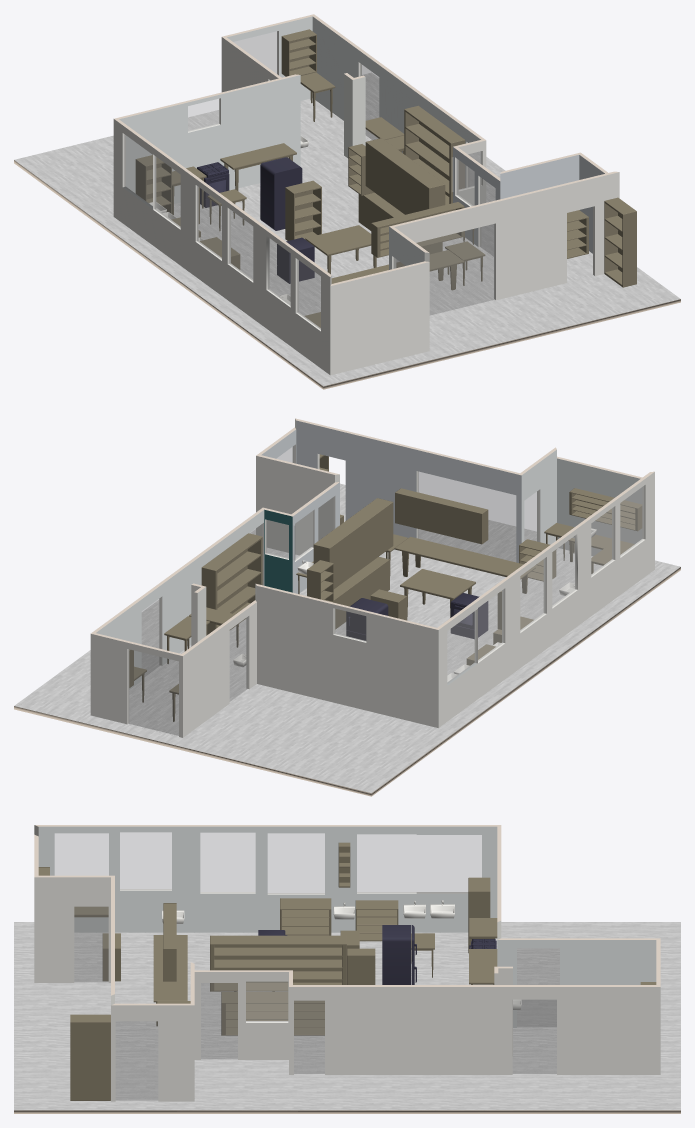
File: Nov17at8-38AM-poly.fbx
3 renders of one model, top to bottom at view 1: azimuth 30°, elevation 25°; view 2: azimuth 150°, elevation 25°; view 3: azimuth 270°, elevation 25°, orthographic. The views are drawn at different scales.
Parts seen in each view (by area): view 1: wall_13-1.wall_12-3.wall_6-3.wall_12-1.wall_6-1.wall_11-3.wa, floor_0-0, object_1.object_2.object_3.object_4.object_5.object_6.object, wall_6-0.wall_5-0.wall_11-0.wall_8-0.wall_4-0.wall_0-0.wall_, window_4.window_8.window_5.window_2.window_0.window_3.window, door_1.door_3.door_7.door_6.door_0.door_4.door_5.door_2, object_18.object_14.object_19.object_23, wall_6-2.wall_12-2.wall_5-2.wall_11-2.wall_4-2.wall_10-2.wal, wall_12-0.wall_1-0.wall_10-0.wall_9-0, floor_0-1, wall_3-0.wall_2-0; view 2: wall_13-1.wall_12-3.wall_6-3.wall_12-1.wall_6-1.wall_11-3.wa, floor_0-0, object_1.object_2.object_3.object_4.object_5.object_6.object, door_1.door_3.door_7.door_6.door_0.door_4.door_5.door_2, wall_12-0.wall_1-0.wall_10-0.wall_9-0, window_4.window_8.window_5.window_2.window_0.window_3.window, wall_6-0.wall_5-0.wall_11-0.wall_8-0.wall_4-0.wall_0-0.wall_, wall_6-2.wall_12-2.wall_5-2.wall_11-2.wall_4-2.wall_10-2.wal, floor_0-1, object_18.object_14.object_19.object_23, wall_7-0; view 3: floor_0-0, wall_13-1.wall_12-3.wall_6-3.wall_12-1.wall_6-1.wall_11-3.wa, object_1.object_2.object_3.object_4.object_5.object_6.object, wall_6-0.wall_5-0.wall_11-0.wall_8-0.wall_4-0.wall_0-0.wall_, window_4.window_8.window_5.window_2.window_0.window_3.window, door_1.door_3.door_7.door_6.door_0.door_4.door_5.door_2, wall_6-2.wall_12-2.wall_5-2.wall_11-2.wall_4-2.wall_10-2.wal, floor_0-1, object_18.object_14.object_19.object_23.
Part boxes in pixels (x1,y1,x2,y2): wall_13-1.wall_12-3.wall_6-3.wall_12-1.wall_6-1.wall_11-3.wa: [113, 31, 619, 375]; floor_0-0: [14, 72, 680, 386]; object_1.object_2.object_3.object_4.object_5.object_6.object: [135, 29, 636, 327]; wall_6-0.wall_5-0.wall_11-0.wall_8-0.wall_4-0.wall_0-0.wall_: [119, 16, 480, 269]; window_4.window_8.window_5.window_2.window_0.window_3.window: [124, 98, 481, 329]; door_1.door_3.door_7.door_6.door_0.door_4.door_5.door_2: [234, 31, 495, 315]; object_18.object_14.object_19.object_23: [197, 157, 314, 283]; wall_6-2.wall_12-2.wall_5-2.wall_11-2.wall_4-2.wall_10-2.wal: [114, 14, 618, 285]; wall_12-0.wall_1-0.wall_10-0.wall_9-0: [453, 147, 604, 253]; floor_0-1: [14, 160, 680, 389]; wall_3-0.wall_2-0: [344, 74, 365, 158]; wall_13-1.wall_12-3.wall_6-3.wall_12-1.wall_6-1.wall_11-3.wa: [90, 419, 654, 737]; floor_0-0: [14, 483, 680, 792]; object_1.object_2.object_3.object_4.object_5.object_6.object: [129, 454, 642, 721]; door_1.door_3.door_7.door_6.door_0.door_4.door_5.door_2: [128, 446, 538, 735]; wall_12-0.wall_1-0.wall_10-0.wall_9-0: [261, 420, 521, 593]; window_4.window_8.window_5.window_2.window_0.window_3.window: [266, 486, 643, 683]; wall_6-0.wall_5-0.wall_11-0.wall_8-0.wall_4-0.wall_0-0.wall_: [96, 450, 642, 689]; wall_6-2.wall_12-2.wall_5-2.wall_11-2.wall_4-2.wall_10-2.wal: [91, 418, 654, 655]; floor_0-1: [14, 567, 680, 796]; object_18.object_14.object_19.object_23: [346, 593, 488, 640]; wall_7-0: [264, 509, 292, 592]; floor_0-0: [14, 922, 680, 1110]; wall_13-1.wall_12-3.wall_6-3.wall_12-1.wall_6-1.wall_11-3.wa: [34, 825, 660, 1101]; object_1.object_2.object_3.object_4.object_5.object_6.object: [38, 842, 656, 1100]; wall_6-0.wall_5-0.wall_11-0.wall_8-0.wall_4-0.wall_0-0.wall_: [38, 826, 656, 1027]; window_4.window_8.window_5.window_2.window_0.window_3.window: [55, 832, 481, 1021]; door_1.door_3.door_7.door_6.door_0.door_4.door_5.door_2: [74, 907, 559, 1100]; wall_6-2.wall_12-2.wall_5-2.wall_11-2.wall_4-2.wall_10-2.wal: [34, 825, 660, 1005]; floor_0-1: [14, 1110, 680, 1113]; object_18.object_14.object_19.object_23: [258, 925, 496, 984].
Bounding box in the file's own units: 10.89 × 2.95 × 16.32.
10 materials, 1 textured.
